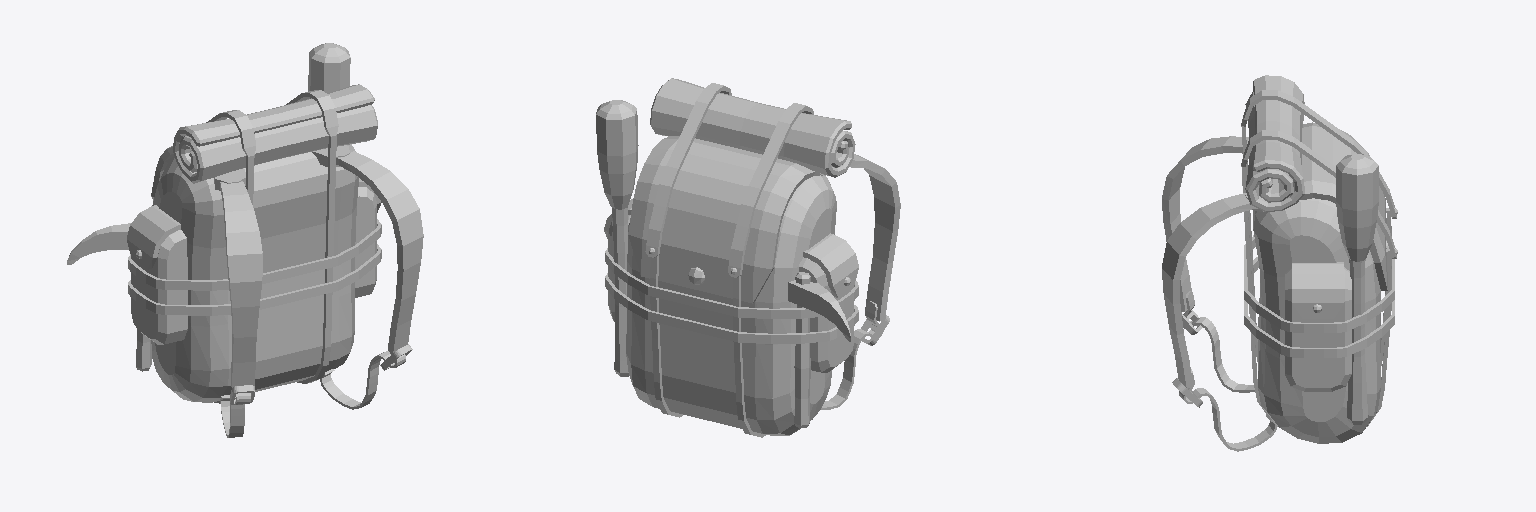
The model's file is travelersBackpack.obj.
3 renders of one model, left to right at view 1: azimuth 30°, elevation 25°; view 2: azimuth 150°, elevation 25°; view 3: azimuth 270°, elevation 25°, orthographic.
Visible parts, largest first — view 1: backpack_Cube:001; view 2: backpack_Cube:001; view 3: backpack_Cube:001.
Boxes of the visible parts, x1,y1,x2,y2 form: backpack_Cube:001: [67, 43, 423, 437]; backpack_Cube:001: [596, 78, 900, 437]; backpack_Cube:001: [1162, 75, 1397, 451].
Size of the model in its own units: 0.8262 by 0.8955 by 0.622.